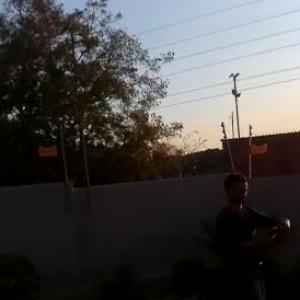follow: (213, 163, 299, 299)
